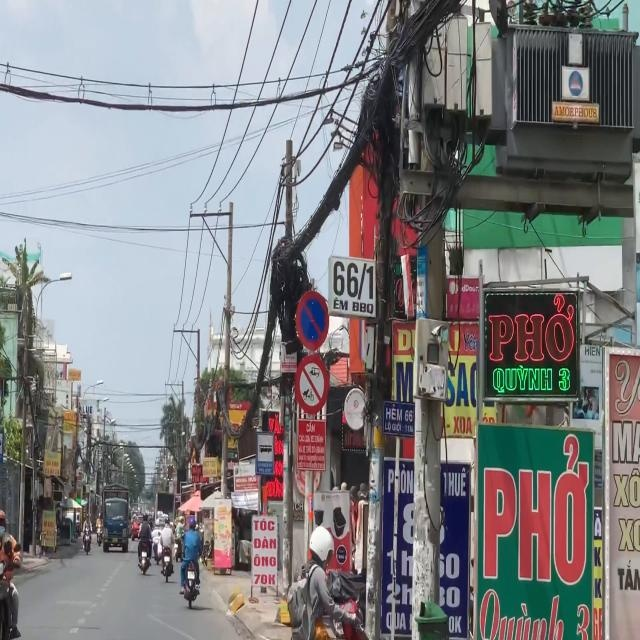bien_cam: (295, 290, 328, 350)
